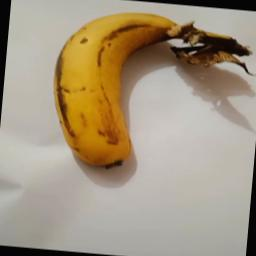Banana Unripe: (45, 0, 256, 186)
